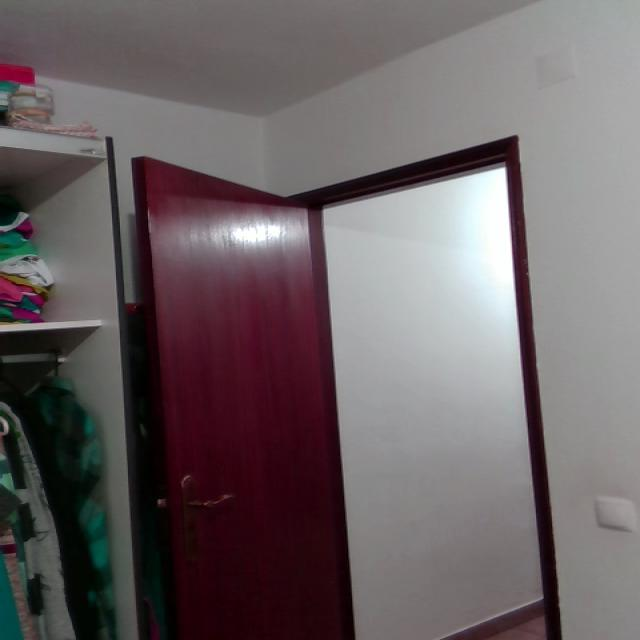door: (112, 131, 592, 640)
